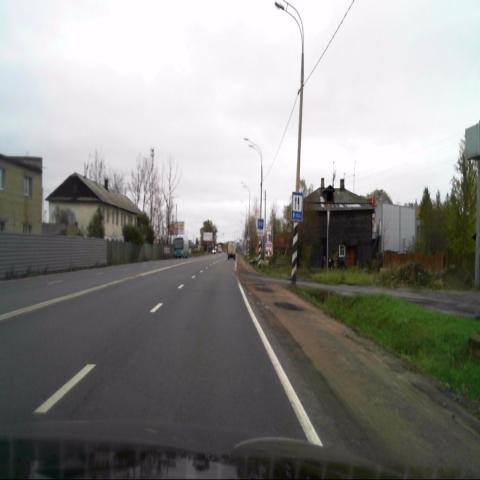7_7: (292, 192, 302, 221)
